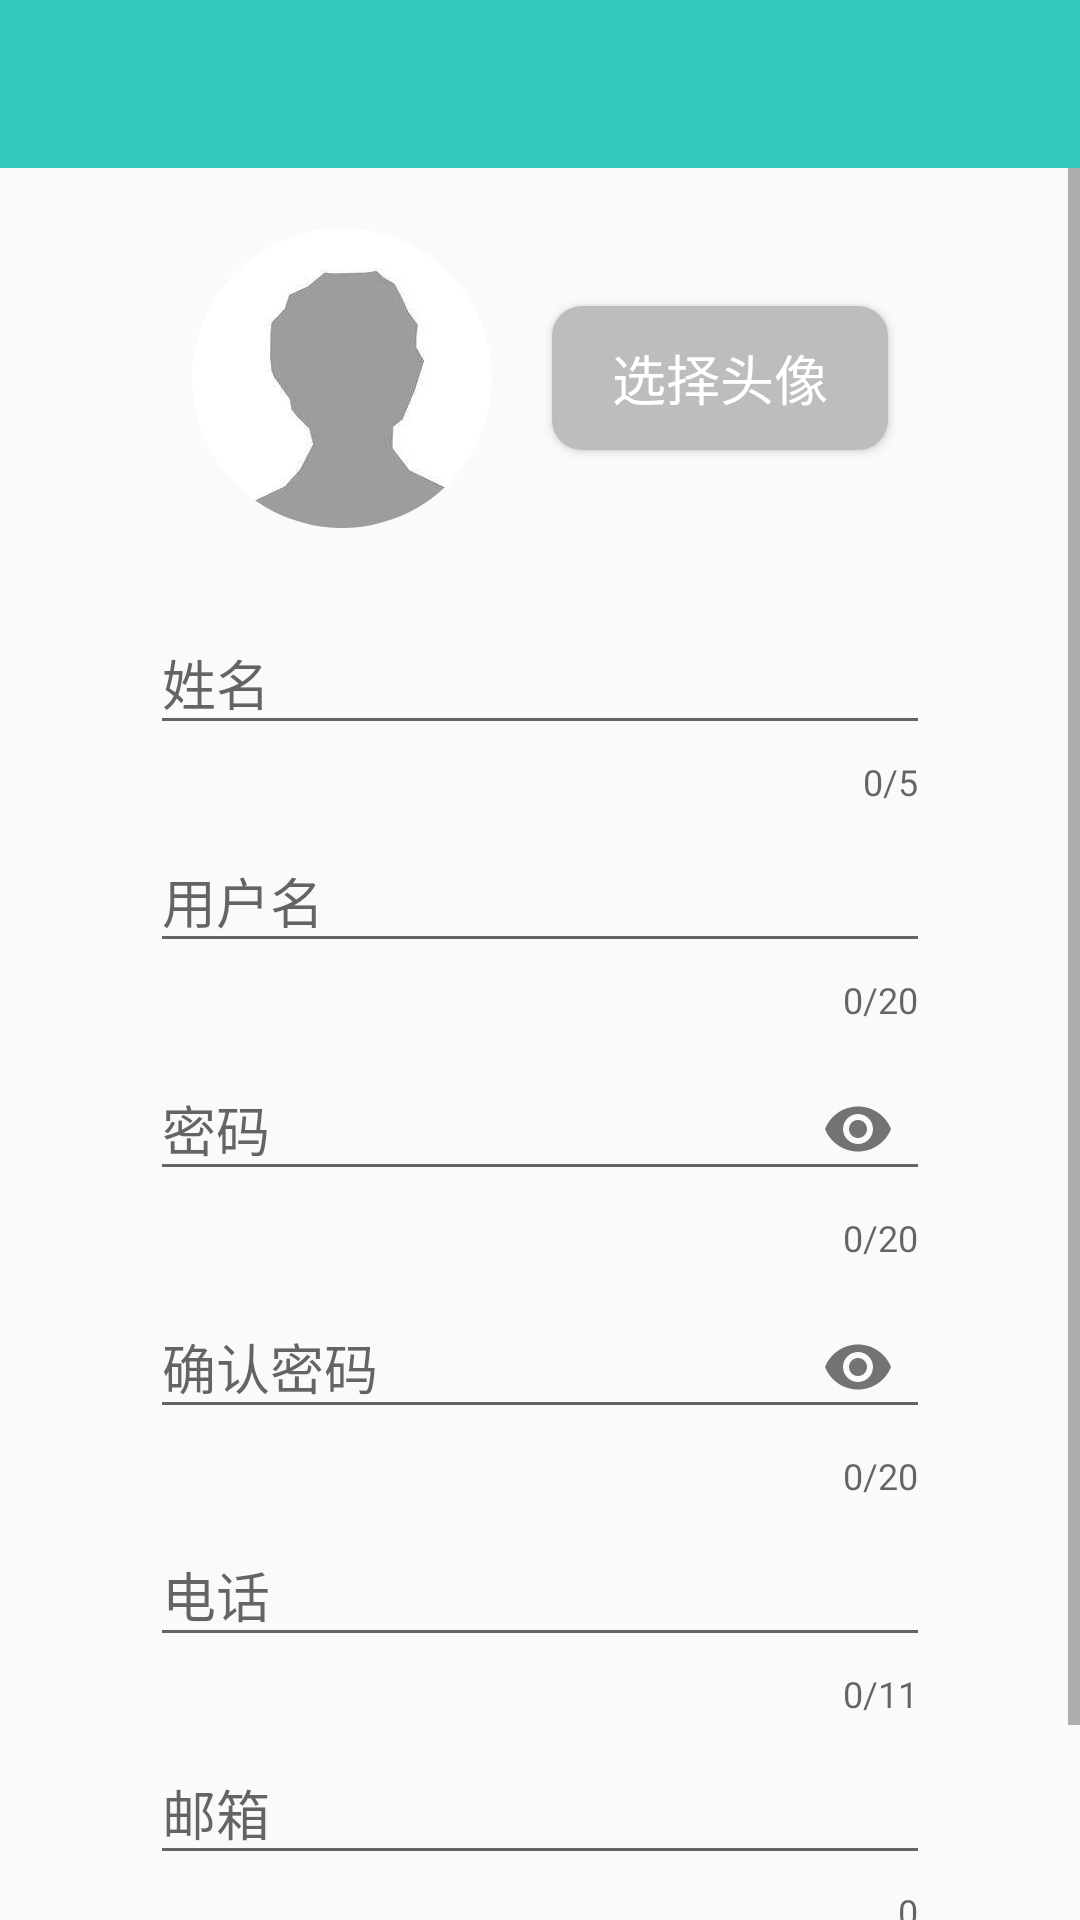

Point at icon controls on the screen. Image size 1080w x 1920h, points as [x,y].
user: [350,399]
